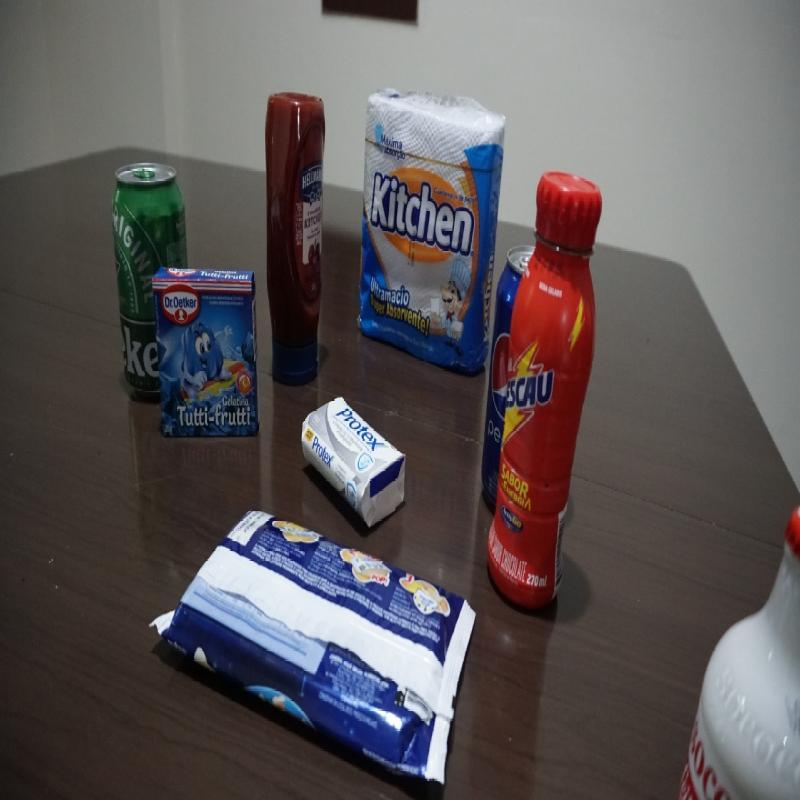Beer can: (112, 161, 189, 402)
Chocolate Milk: (486, 169, 604, 617), (679, 502, 800, 798)
Gelatine: (151, 267, 261, 444)
Ketchup: (264, 90, 327, 386)
Napkin: (357, 86, 507, 376)
Popcorn: (149, 504, 478, 790)
Soap: (300, 394, 408, 533)
Soda can: (480, 238, 528, 510)
